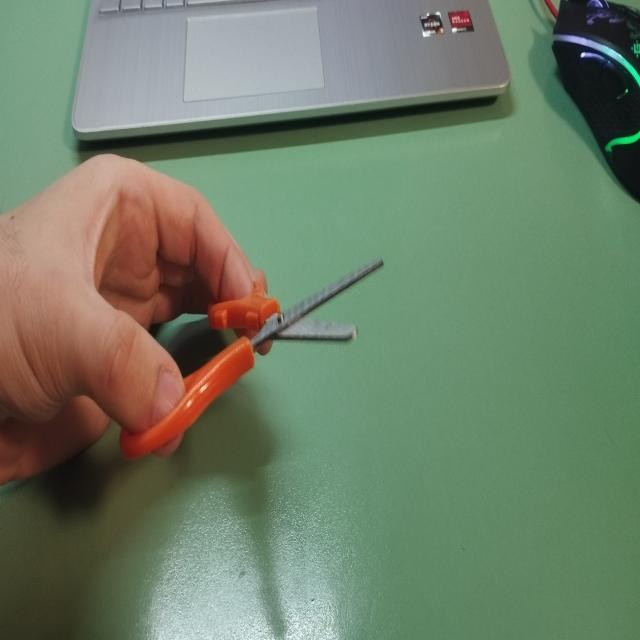tesoura: (114, 243, 390, 466)
